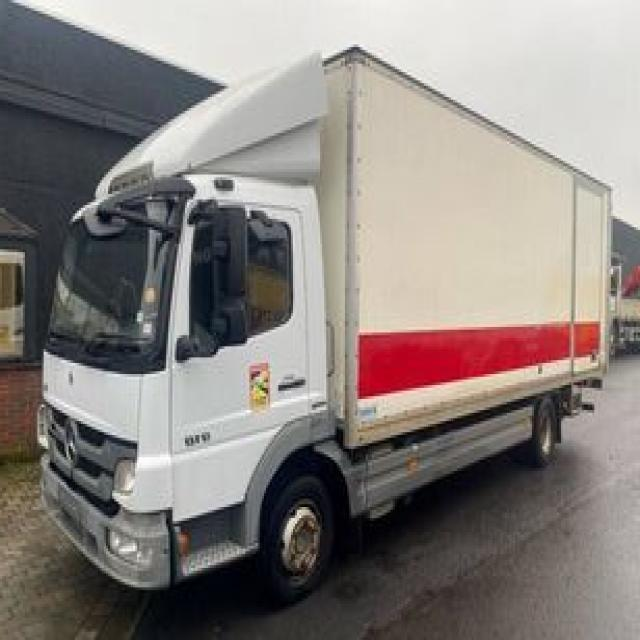truck: (40, 47, 610, 601)
